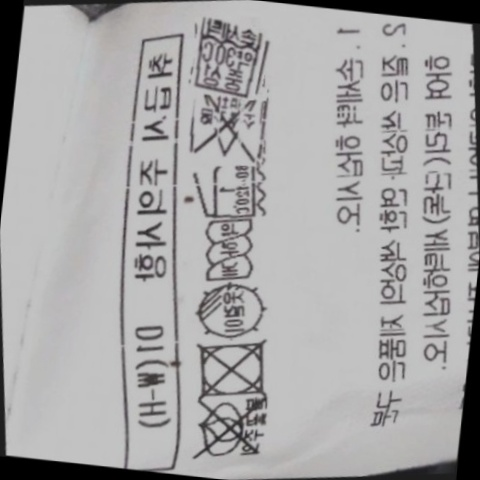DN_tumble_dry: (188, 331, 279, 405)
hand_wash: (186, 18, 272, 97)
iron_low: (192, 158, 266, 224)
line_dry_in_shade: (188, 278, 273, 343)
wring: (199, 215, 261, 287)
